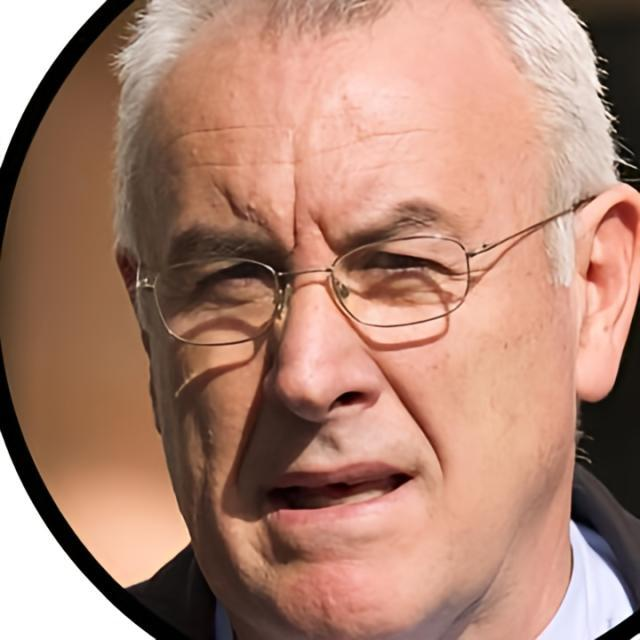disgust: (133, 0, 580, 640)
